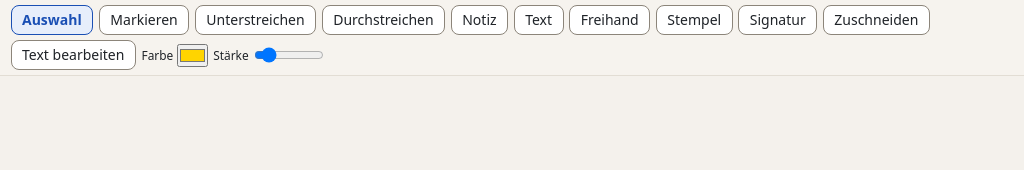
Zuschneideleiste › erscheint in der Werkzeugleiste nur mit dem Werkzeug
What coordinates should you click on to do the following:
click the button with test id "werkzeug-zuschneiden"
I would click on:
 (876, 20)
Its box is [823,5,930,35].
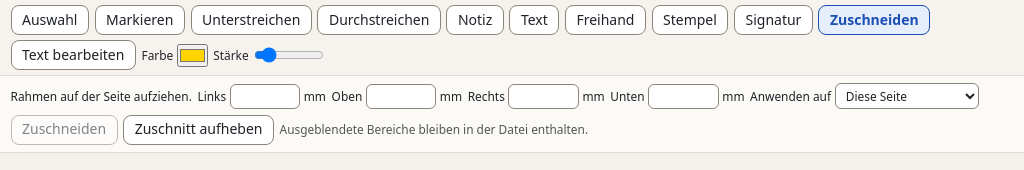
expect the element with test id "zuschneiden" is shown: met, box [0,76,1023,153]
